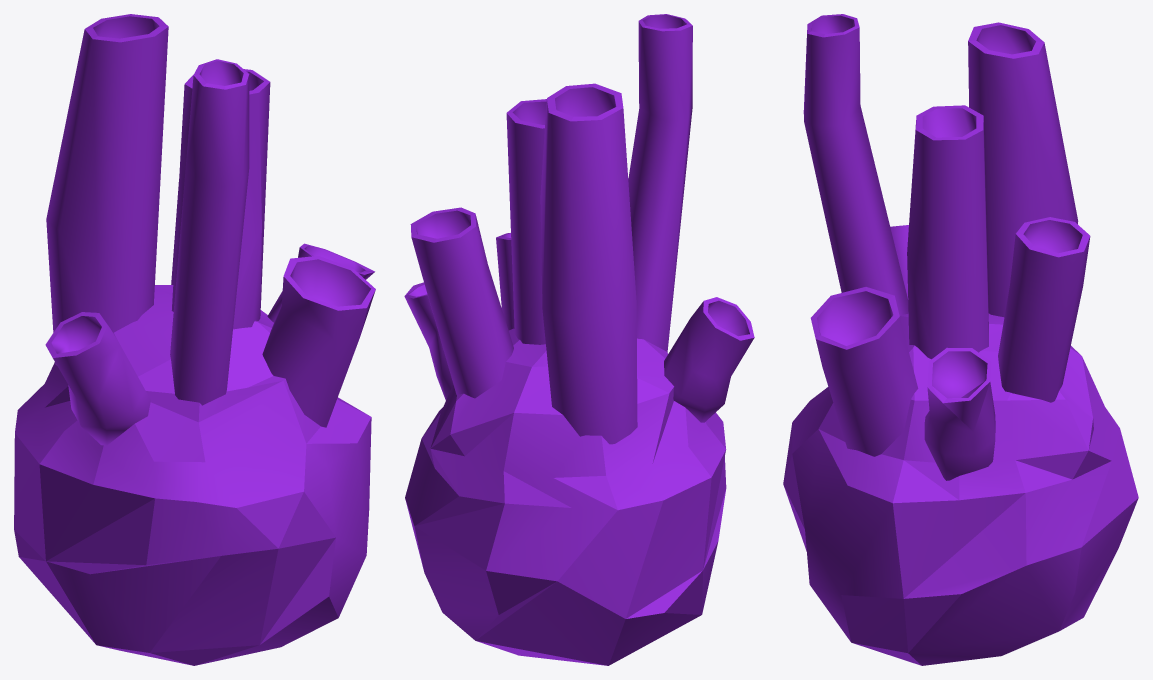
Rendered from M_TubeCoral 1.fbx.
3 views of the same model, side by side, from view 1: azimuth 30°, elevation 25°; view 2: azimuth 150°, elevation 25°; view 3: azimuth 270°, elevation 25° (orthographic). The views are drawn at different scales.
Visible parts, largest first — view 1: tubecoral; view 2: tubecoral; view 3: tubecoral.
Boxes of the visible parts, x1,y1,x2,y2 form: tubecoral: [14, 14, 375, 665]; tubecoral: [404, 14, 754, 665]; tubecoral: [783, 14, 1138, 665].
Bounding box in the file's own units: 10.98 × 18.46 × 10.26.
